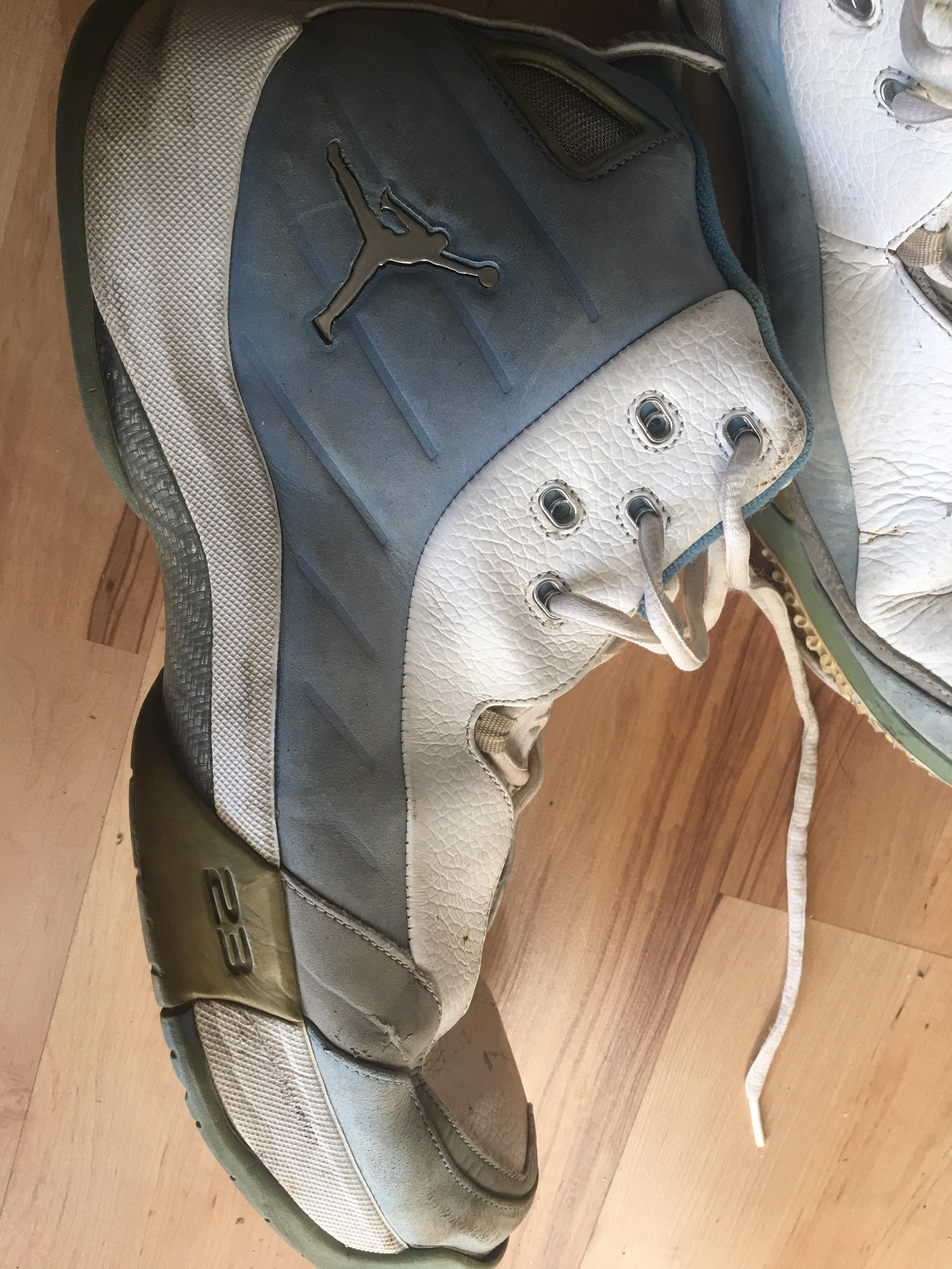sneaker: (67, 0, 817, 1269)
